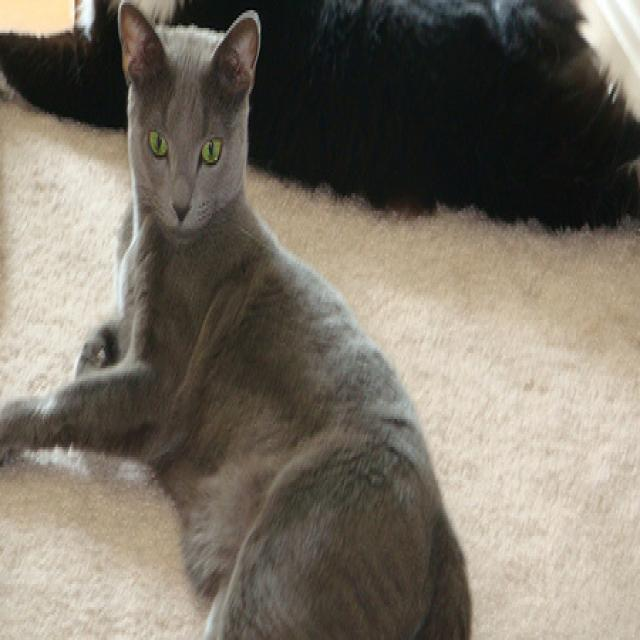Russian Blue: (0, 0, 472, 640)
